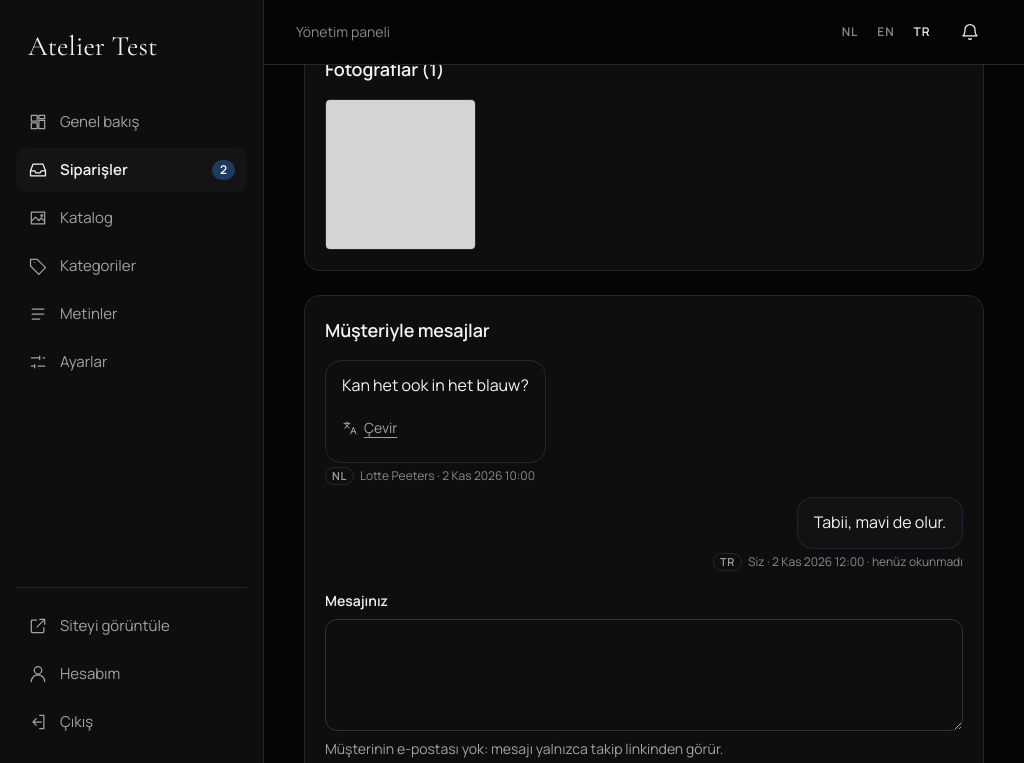
Test case: order detail › tags every message with the sender's language and translates the customer's message on request
(page scrolled)
Expected: the text "Kan het ook in het blauw?" is shown, [342,372,529,398]
Click the button "Çevir". click: point(370, 428)
box: [342,406,397,450]
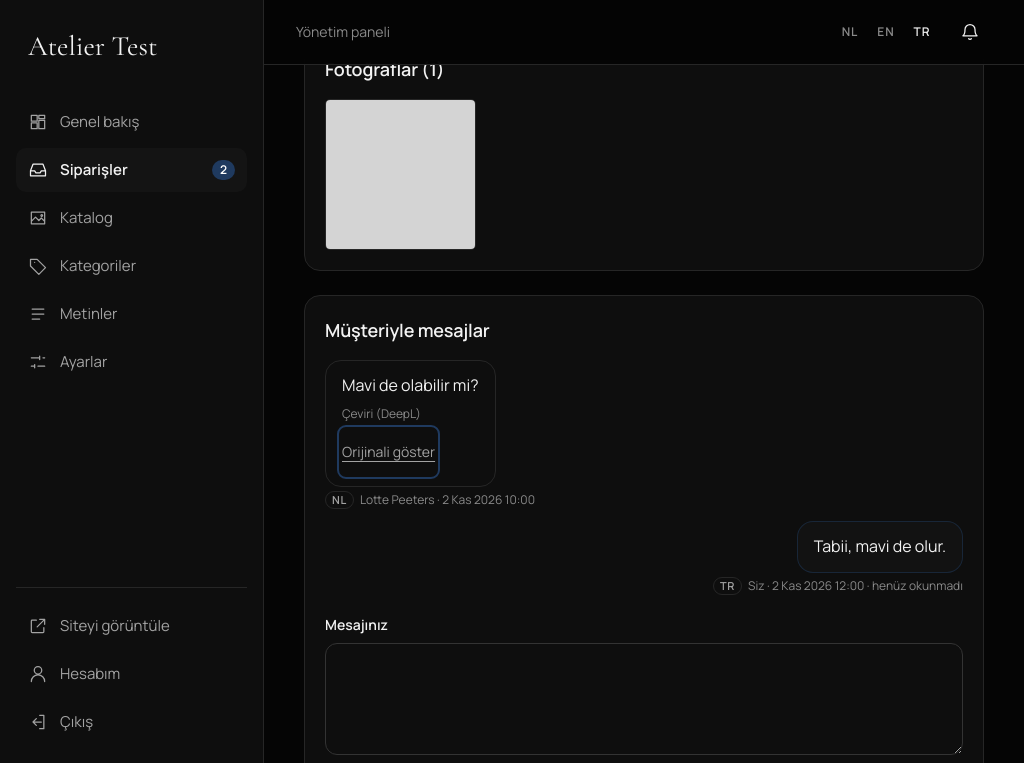
Expected: the text "Mavi de olabilir mi?" is shown, [342,372,478,398]
Click the button "Orijinali göster". click: point(389, 452)
box: [342,430,435,474]
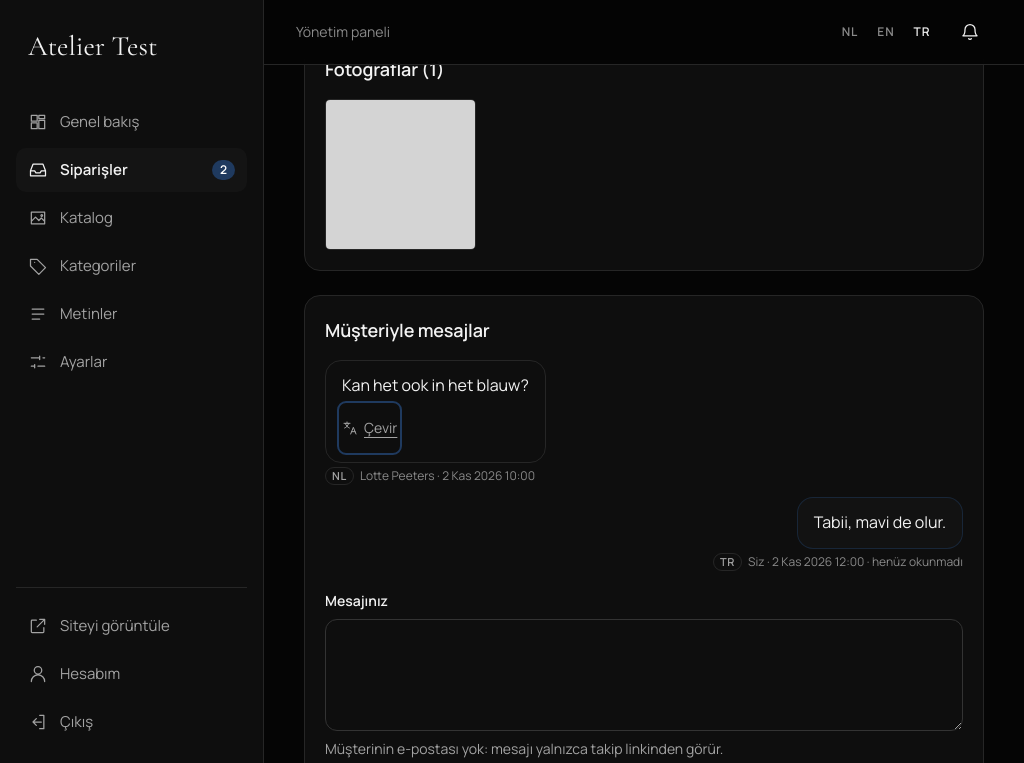
Expected: the text "Kan het ook in het blauw?" is shown, [342,372,529,398]
Back to the translation without a new request.
Click the button "Çevir". click: point(370, 428)
box: [342,406,397,450]
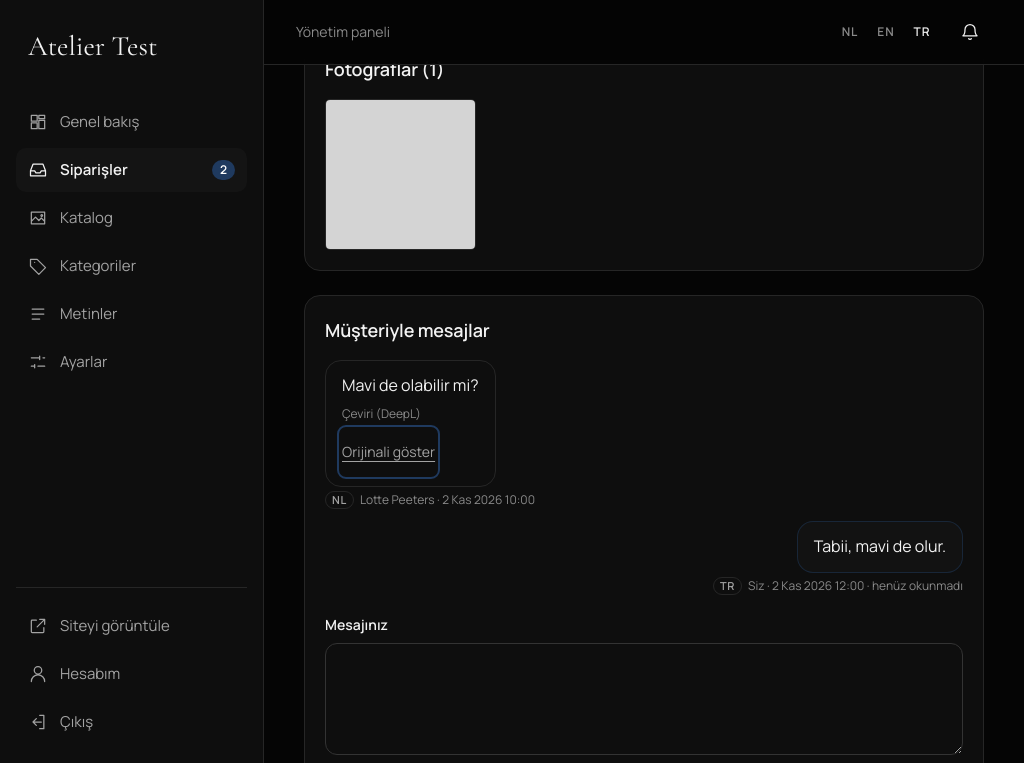
Expected: the text "Mavi de olabilir mi?" is shown, [342,372,478,398]
